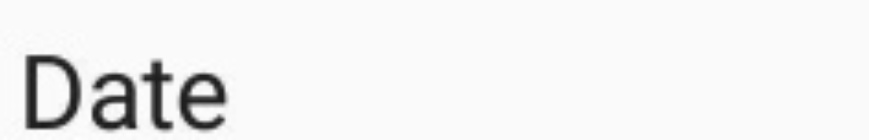TextView: (1, 1, 868, 139)
